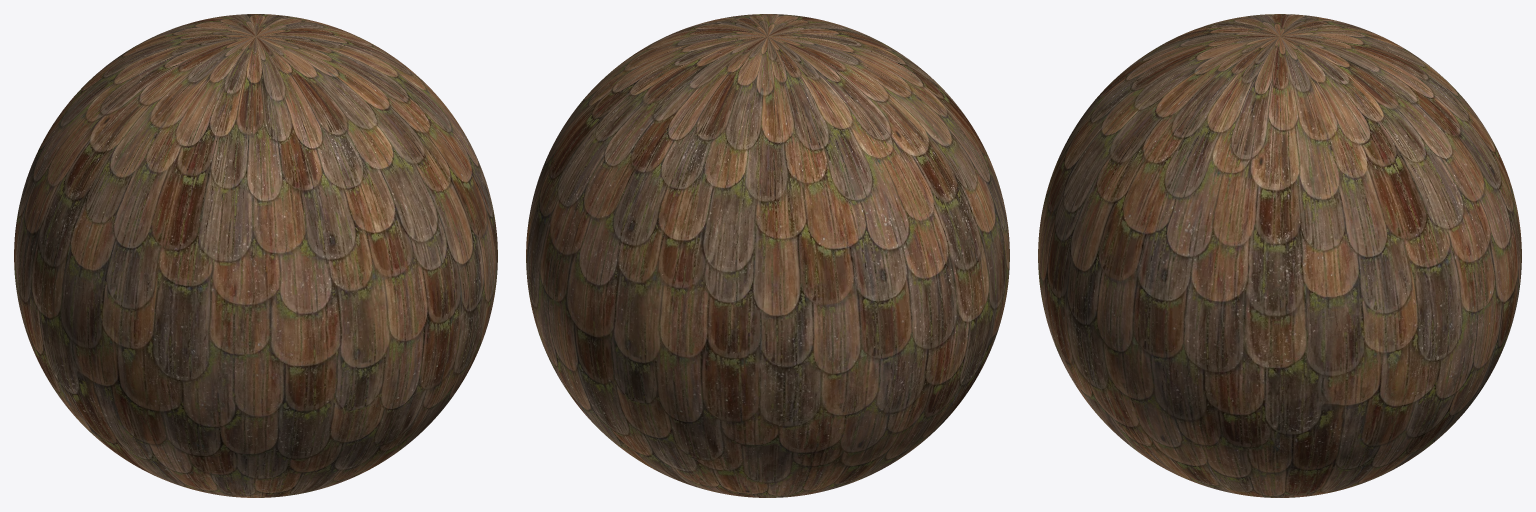
Rendered from coconut-0.glb.
3 renders of one model, left to right at view 1: azimuth 30°, elevation 25°; view 2: azimuth 150°, elevation 25°; view 3: azimuth 270°, elevation 25°, orthographic.
Parts seen in each view (by area): view 1: Sphere__0; view 2: Sphere__0; view 3: Sphere__0.
Part boxes in pixels (<box>): Sphere__0: <box>14,14,497,497</box>; Sphere__0: <box>526,14,1009,497</box>; Sphere__0: <box>1038,14,1521,497</box>.
Size of the model in its own units: 99.92 by 100 by 99.92.
Materials: 1 (1 with a texture image).
